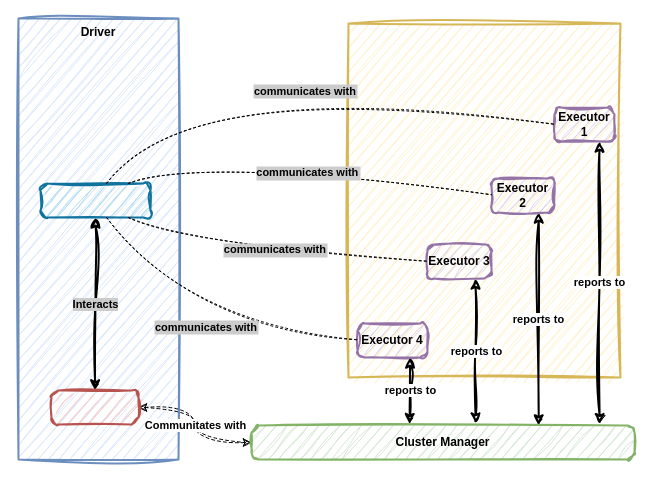
The diagram is 652 pixels wide and 477 high, and some of its shapes have lost their labels. The box of each missing label's shape, as (x1, y1, x2, y2) in pixels:
Executors: (347, 22, 621, 378)
Spark Session: (39, 182, 151, 218)
User Code: (50, 389, 139, 425)
